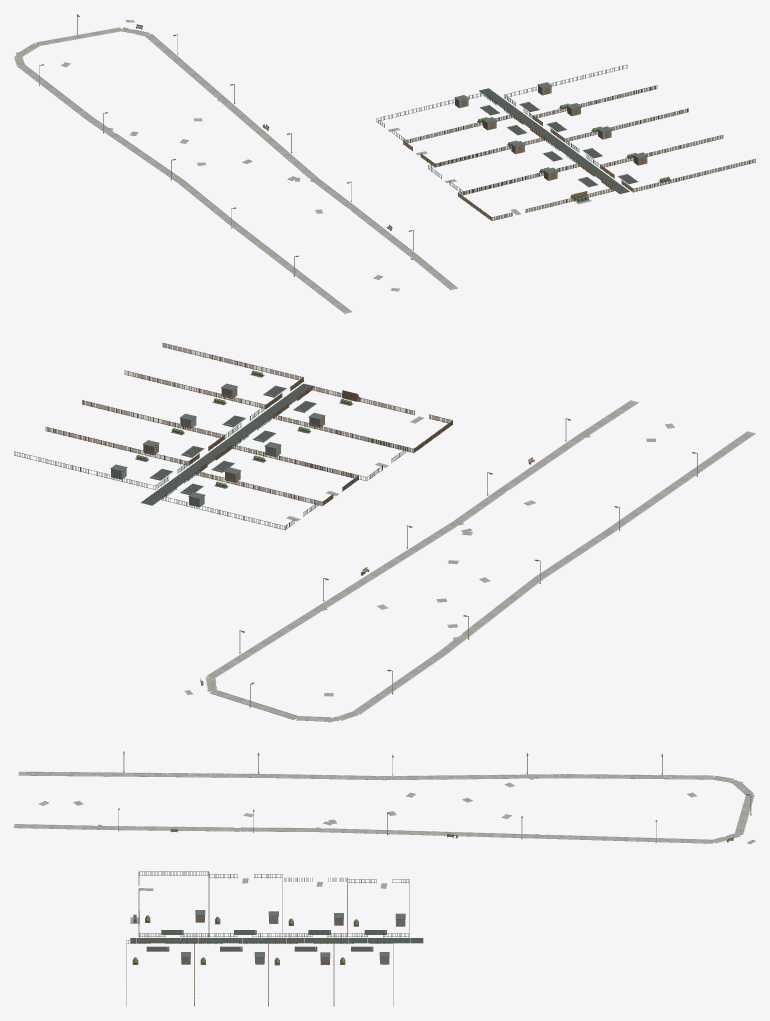
Rendered from district_-1_-1.glb.
The picture shows the model from 3 angles, top to bottom: view 1: azimuth 30°, elevation 25°; view 2: azimuth 150°, elevation 25°; view 3: azimuth 270°, elevation 25°; orthographic projection. The views are drawn at different scales.
Parts seen in each view (by area): view 1: CityPaving, CityWood, CityFence, CityCurbs, CityCourtSurface, CityEquipment, CityMetal; view 2: CityPaving, CityWood, CityFence, CityCourtSurface, CityCurbs, CityEquipment, CityMetal; view 3: CityPaving, CityCurbs, CityCourtSurface, CityFence, CityWood, CityEquipment, CityMetal.
Boxes of the visible parts, x1,y1,x2,y2 form: CityPaving: (15,20,591,313); CityWood: (136,24,755,229); CityFence: (376,64,755,220); CityCurbs: (14,20,457,313); CityCourtSurface: (479,88,638,193); CityEquipment: (263,86,647,202); CityMetal: (39,14,647,256); CityPaving: (185,397,754,722); CityWood: (46,343,534,684); CityFence: (14,342,452,530); CityCourtSurface: (141,383,316,505); CityCurbs: (185,400,755,722); CityEquipment: (111,387,363,575); CityMetal: (110,383,696,685); CityPaving: (14,772,755,923); CityCurbs: (14,771,755,843); CityCourtSurface: (130,930,423,951); CityFence: (126,871,409,1006); CityWood: (126,829,733,1005); CityEquipment: (133,835,457,964); CityMetal: (118,751,750,963).
Size of the model in its own units: 140 by 5.8 by 187.
Materials: 12 (1 with a texture image).
